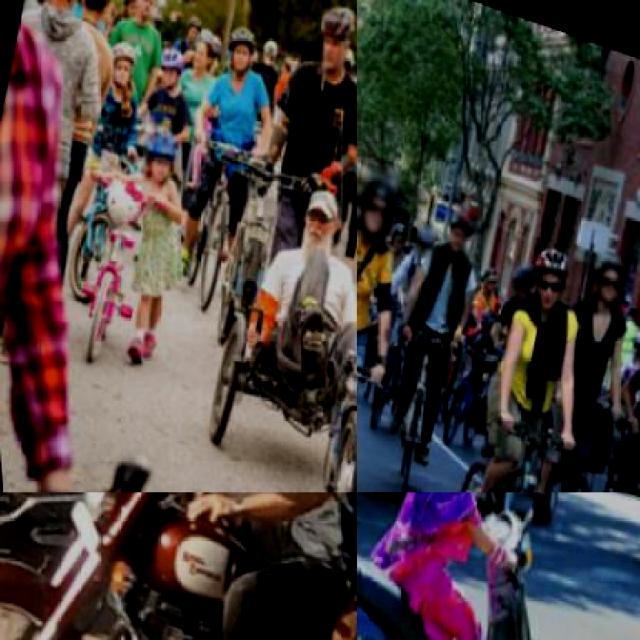With Helmet: (510, 228, 579, 318), (357, 154, 405, 248), (303, 0, 355, 80), (129, 108, 182, 186), (578, 238, 632, 305), (435, 190, 480, 262), (214, 15, 261, 74), (150, 36, 187, 93), (499, 249, 538, 302), (405, 214, 438, 257)
